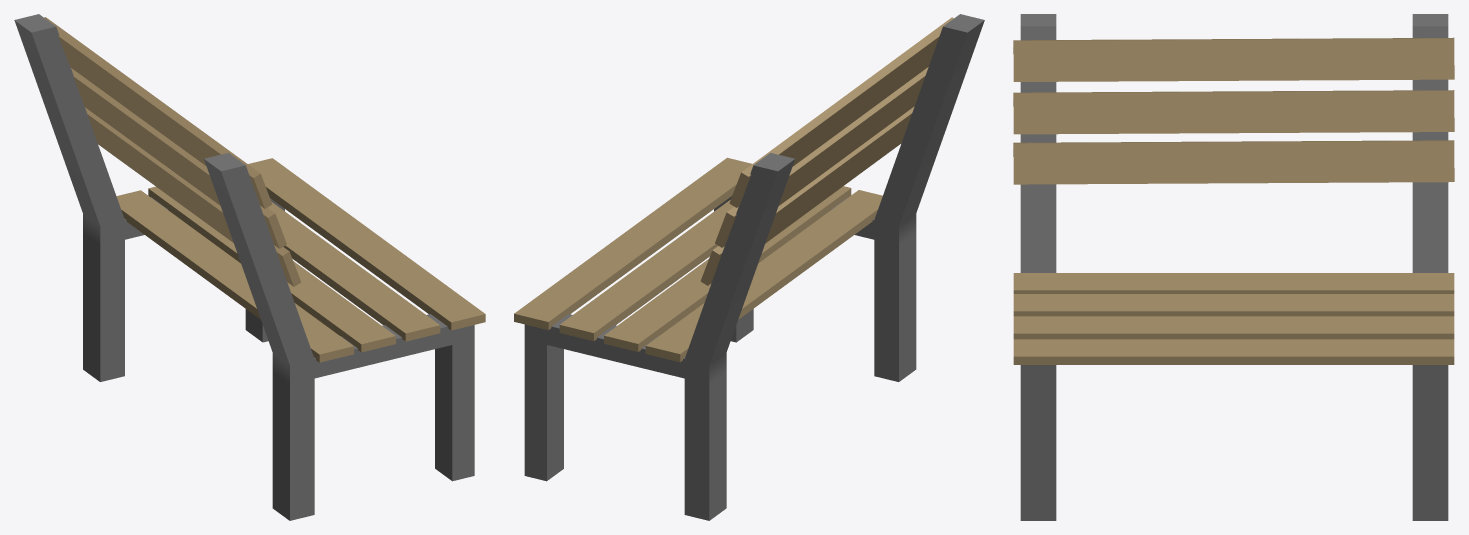
File: park bench.fbx
The picture shows the model from 3 angles, left to right: view 1: azimuth 30°, elevation 25°; view 2: azimuth 150°, elevation 25°; view 3: azimuth 270°, elevation 25°; orthographic projection. The views are drawn at different scales.
Parts seen in each view (by area): view 1: pCube1, pCube6, pCube5, pCube2, pCube4, pCube10, pCube3, pCube11, pCube12; view 2: pCube6, pCube1, pCube5, pCube2, pCube4, pCube10, pCube3, pCube11, pCube12; view 3: pCube12, pCube11, pCube10, pCube5, pCube6, pCube1, pCube4, pCube3, pCube2.
Part boxes in pixels (x1,y1,x2,y2): pCube1: (204, 153, 474, 520); pCube6: (14, 14, 284, 381); pCube5: (248, 158, 485, 330); pCube2: (116, 190, 353, 362); pCube4: (267, 202, 440, 341); pCube10: (44, 17, 272, 208); pCube3: (148, 186, 395, 352); pCube11: (71, 68, 286, 248); pCube12: (85, 107, 301, 286); pCube6: (524, 153, 794, 520); pCube1: (714, 14, 984, 381); pCube5: (514, 157, 751, 329); pCube2: (645, 190, 882, 362); pCube4: (559, 199, 733, 341); pCube10: (729, 17, 953, 207); pCube3: (604, 186, 851, 351); pCube11: (715, 67, 928, 247); pCube12: (700, 106, 914, 285); pCube12: (1013, 140, 1454, 184); pCube11: (1013, 90, 1454, 134); pCube10: (1013, 37, 1454, 81); pCube5: (1013, 339, 1454, 364); pCube6: (1412, 14, 1448, 520); pCube1: (1020, 14, 1056, 520); pCube4: (1013, 316, 1454, 339); pCube3: (1013, 294, 1454, 316); pCube2: (1013, 273, 1454, 293).
Size of the model in its own units: 7.01 by 9.4 by 9.92.
